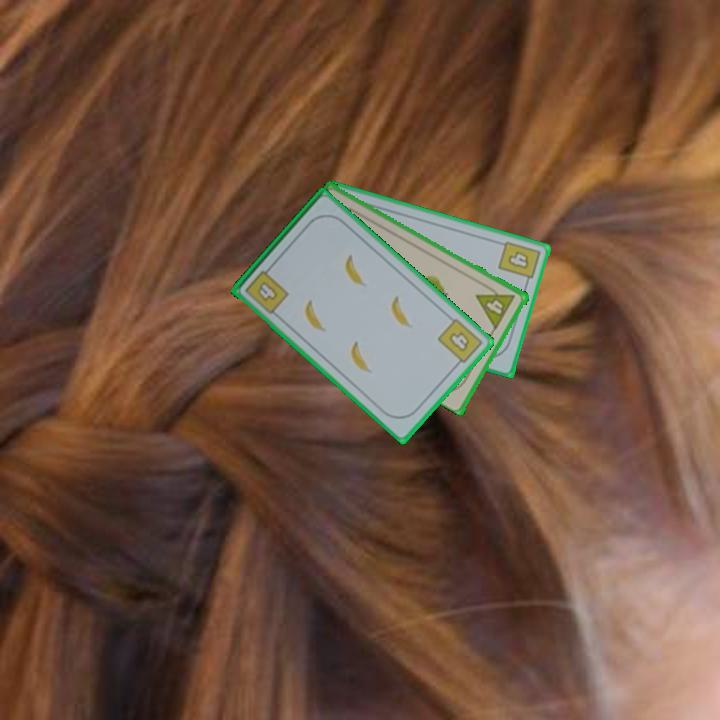4b: (434, 315, 486, 370), (241, 262, 292, 317), (495, 237, 543, 288)
4p: (473, 280, 518, 331)
